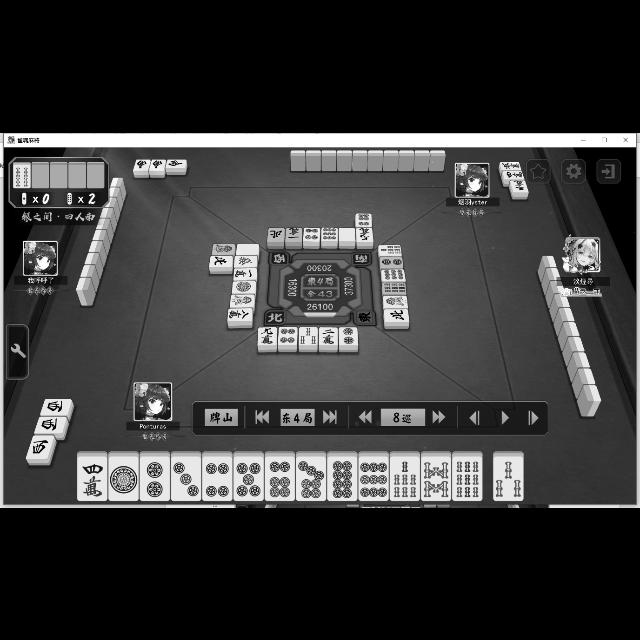1m: (233, 268, 257, 280), (286, 227, 302, 241)
1p: (108, 458, 138, 500), (232, 281, 256, 293)
1s: (382, 294, 408, 308), (230, 293, 254, 307), (212, 243, 234, 254)
2m: (320, 326, 338, 346)
2p: (140, 456, 170, 500), (339, 326, 359, 344), (380, 256, 404, 268)
3m: (509, 179, 528, 191)
3p: (170, 456, 202, 500)
3s: (493, 456, 523, 500), (299, 327, 317, 345)
4m: (78, 456, 109, 502), (502, 170, 526, 178)
4p: (202, 456, 232, 500), (278, 327, 296, 345), (304, 226, 320, 240)
4s: (14, 164, 31, 188)
5m: (500, 160, 522, 170)
5p: (233, 456, 263, 500)
6p: (266, 456, 294, 500), (356, 212, 372, 226)
7p: (296, 456, 326, 500)
7s: (390, 456, 420, 500)
8m: (228, 307, 252, 321)
8p: (327, 456, 357, 500)
8s: (421, 456, 451, 500)
9m: (257, 326, 275, 344), (356, 226, 372, 240)
9p: (358, 456, 388, 500), (380, 268, 406, 280), (322, 227, 338, 239)
9s: (452, 456, 482, 500)
haku: (236, 242, 258, 254), (338, 227, 356, 241)
hatsu: (235, 255, 257, 267)
nan: (132, 158, 150, 170), (166, 159, 186, 167), (149, 159, 165, 169)
pe: (384, 308, 410, 322), (268, 226, 284, 242), (210, 256, 232, 266)
sha: (25, 434, 53, 458), (40, 398, 72, 416), (34, 416, 66, 432)
